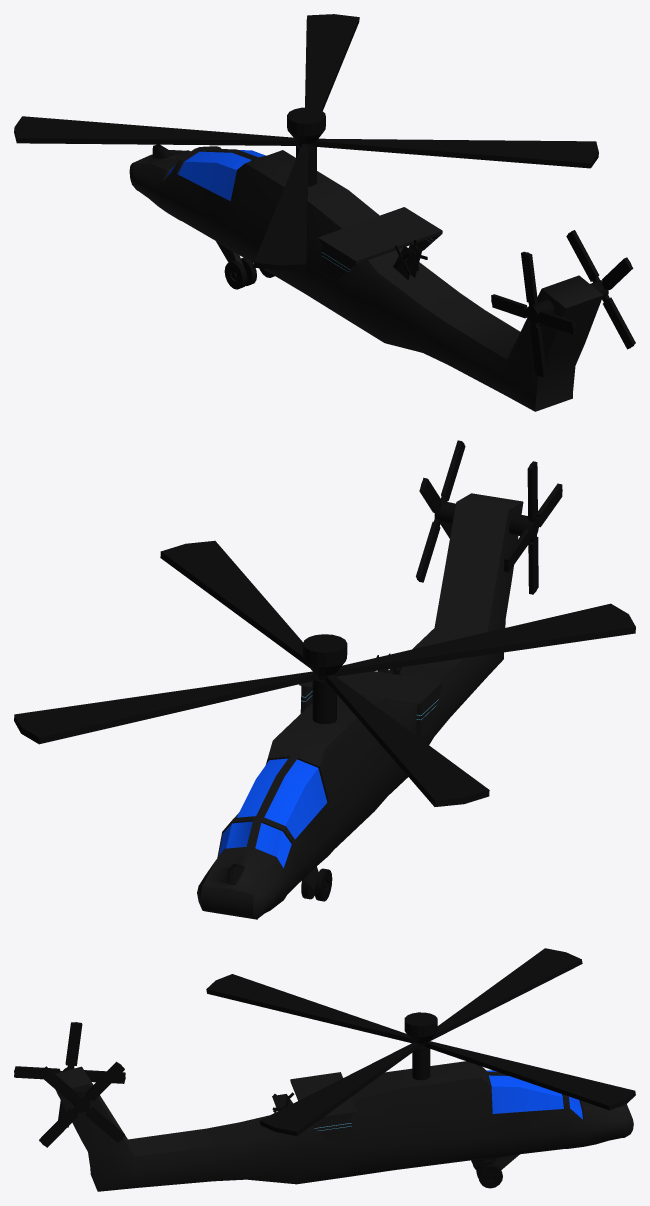
The model's file is Chopper2.FBX.
3 renders of one model, top to bottom at view 1: azimuth 30°, elevation 25°; view 2: azimuth 150°, elevation 25°; view 3: azimuth 270°, elevation 25°, orthographic. The views are drawn at different scales.
Visible parts, largest first — view 1: HELICOPTERO003, Helice Central001, Helice Trasera002, Helice Trasera003; view 2: HELICOPTERO003, Helice Central001, Helice Trasera002, Helice Trasera003; view 3: HELICOPTERO003, Helice Central001, Helice Trasera003, Helice Trasera002, Rueda 008.
Part boxes in pixels (bbox=[...]): HELICOPTERO003: bbox=[129, 144, 603, 411]; Helice Central001: bbox=[14, 14, 598, 270]; Helice Trasera002: bbox=[491, 251, 576, 377]; Helice Trasera003: bbox=[566, 230, 635, 349]; HELICOPTERO003: bbox=[197, 493, 523, 919]; Helice Central001: bbox=[14, 540, 635, 806]; Helice Trasera002: bbox=[503, 461, 562, 594]; Helice Trasera003: bbox=[416, 440, 465, 582]; HELICOPTERO003: bbox=[55, 1061, 633, 1191]; Helice Central001: bbox=[206, 948, 635, 1136]; Helice Trasera003: bbox=[38, 1061, 125, 1147]; Helice Trasera002: bbox=[14, 1022, 125, 1127]; Rueda 008: bbox=[478, 1164, 502, 1188].
Size of the model in its own units: 23.04 by 9.93 by 33.41.
